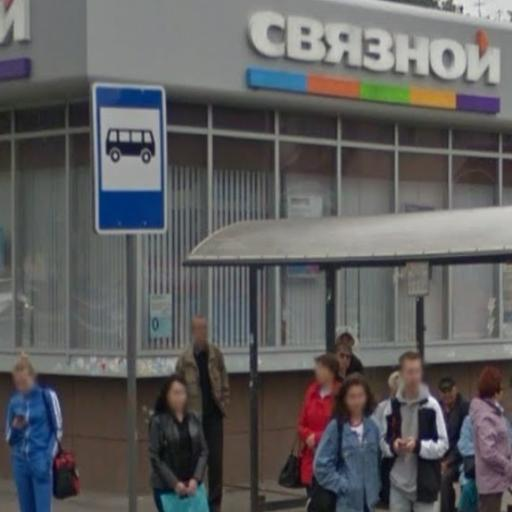traffic_sign: (90, 80, 172, 238)
